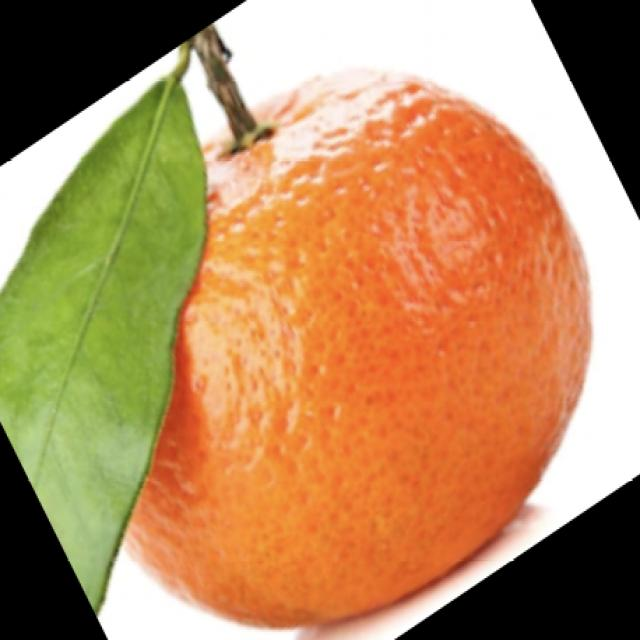fresh: (1, 13, 599, 614)
